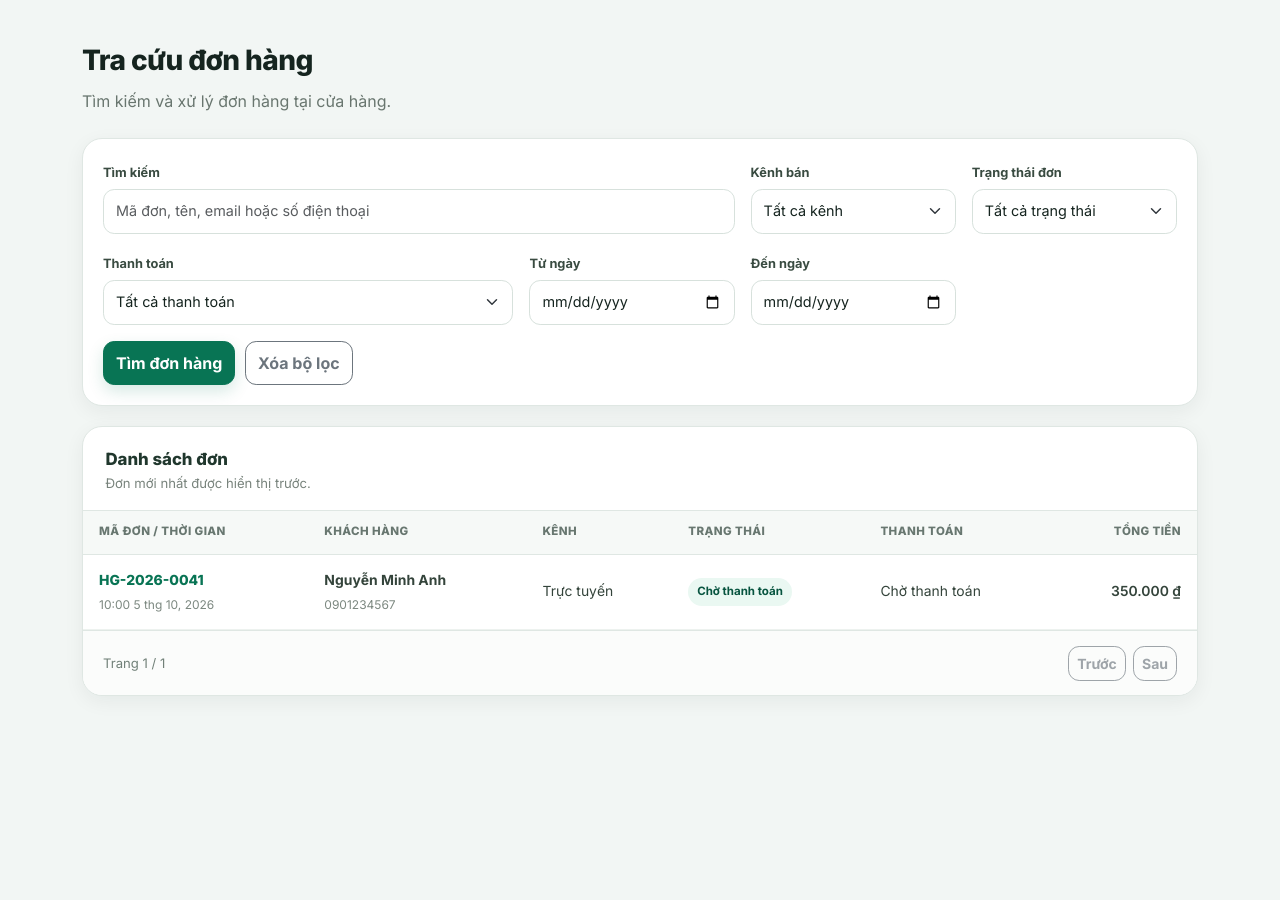
Scenario: StaffOrdersPage › prevents duplicate confirmation requests while one is pending
The width and height of the screenshot is (1280, 900).
Click the button with aria-label "Xem chi tiết đơn HG-2026-0041": (151,581) [99,570,204,592]
(page scrolled)
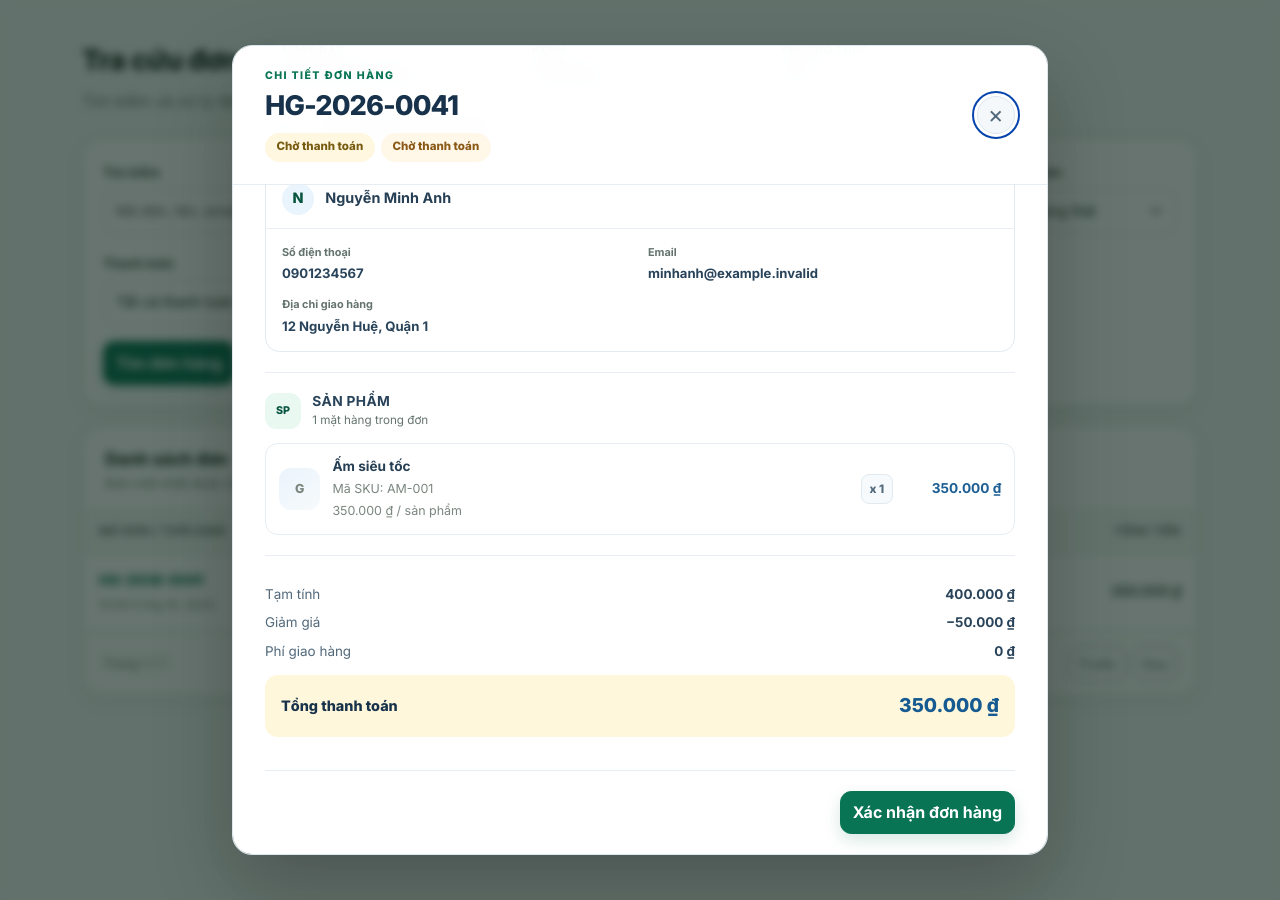
Click the button "Xác nhận đơn hàng": (927,812) [840,791,1015,834]
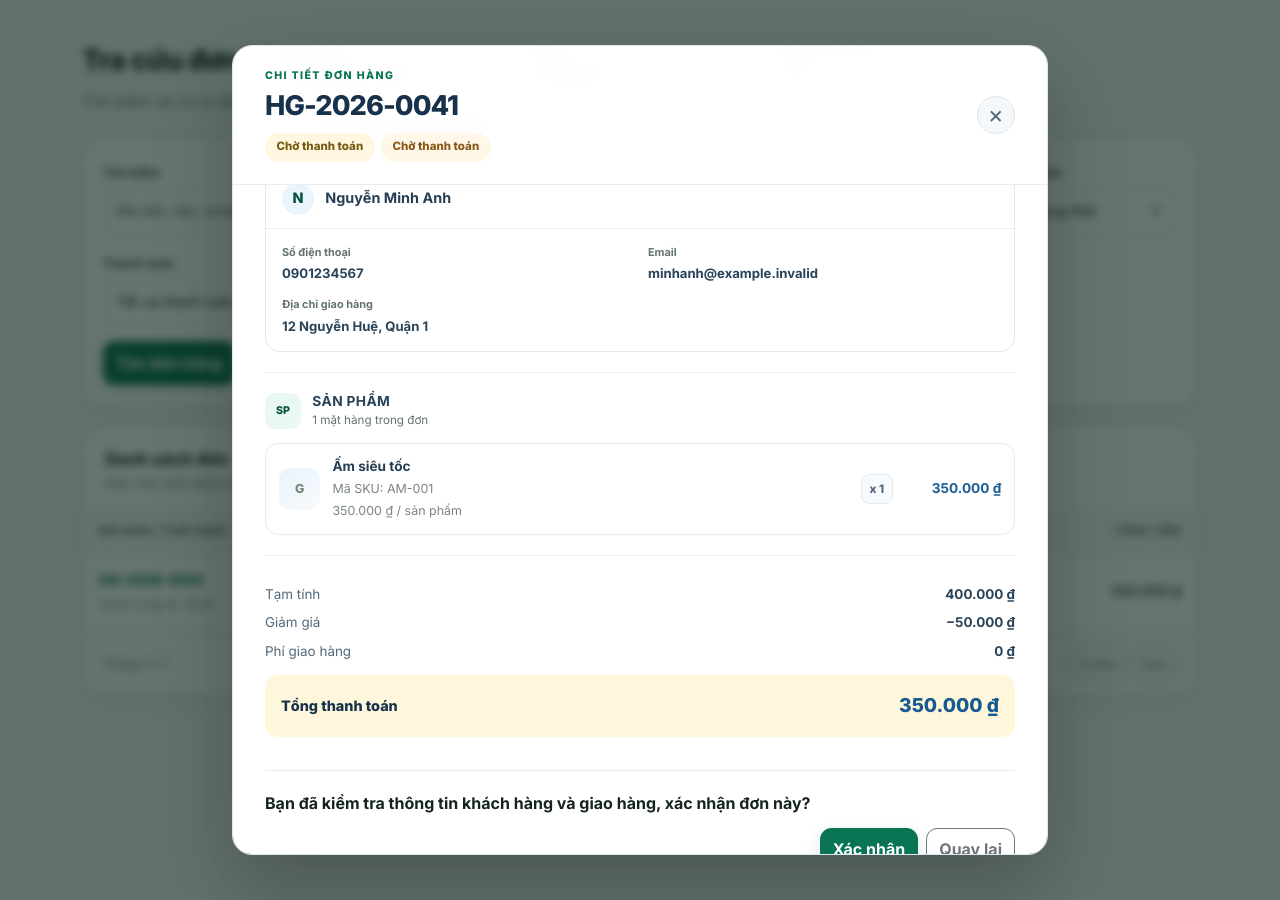
Double-click the button "Xác nhận": (869,849) [820,828,918,870]
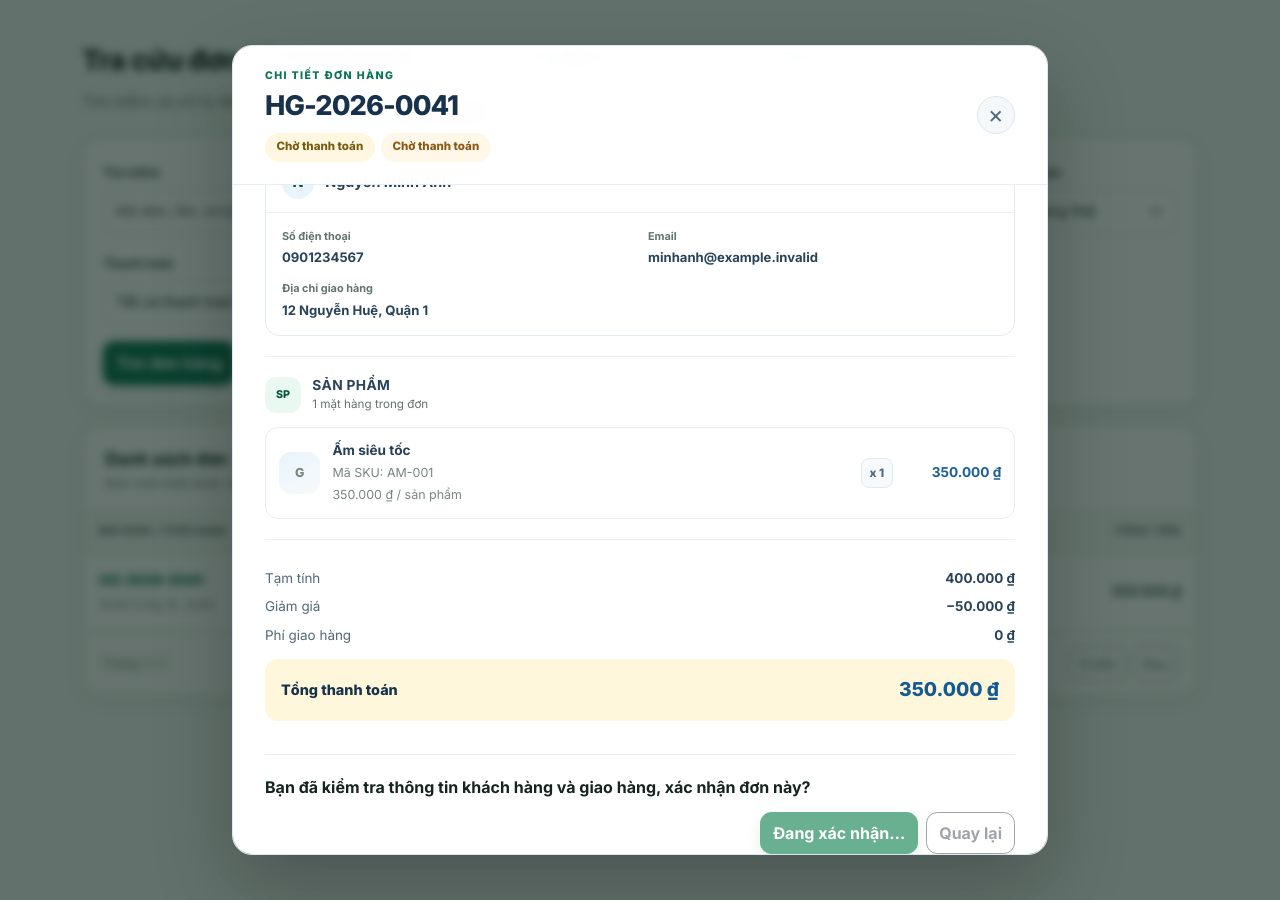
Now the button "Đang xác nhận…" is disabled, box [760,812,918,854]
